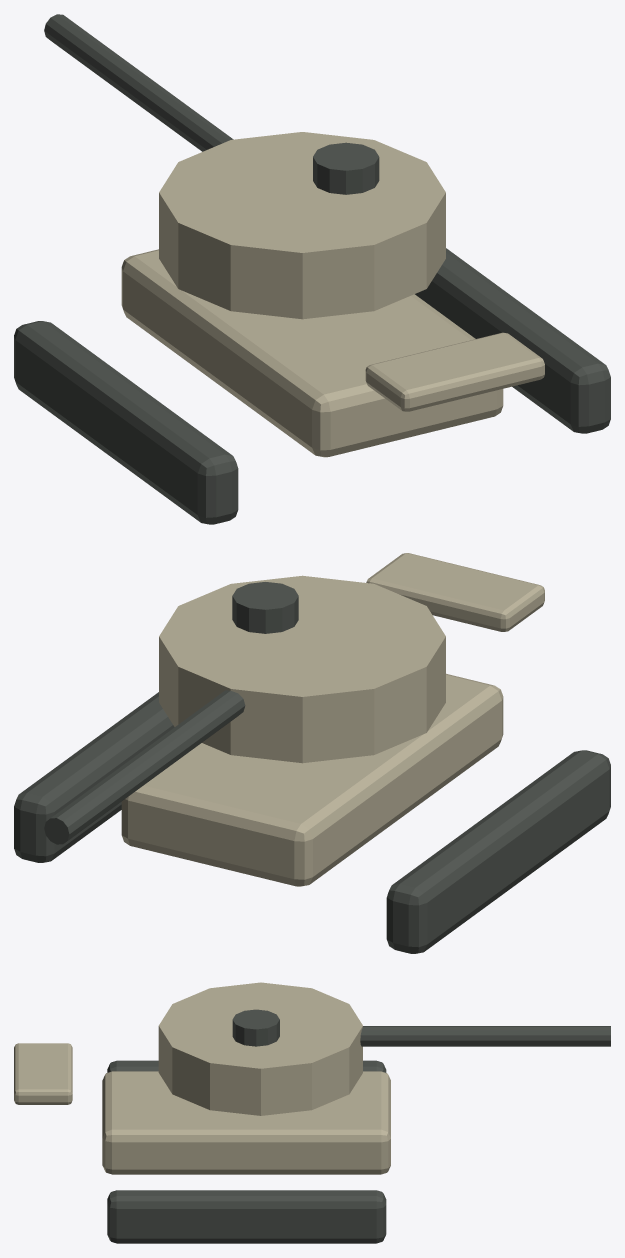
File: mideast_merkava4.glb
3 renders of one model, top to bottom at view 1: azimuth 30°, elevation 25°; view 2: azimuth 150°, elevation 25°; view 3: azimuth 270°, elevation 25°, orthographic. The views are drawn at different scales.
Parts seen in each view (by area): view 1: turret, hull, left_track, right_track, rear_deck, gun, cupola; view 2: turret, hull, left_track, right_track, rear_deck, gun, cupola; view 3: hull, turret, right_track, gun, rear_deck, cupola, left_track.
Part boxes in pixels (<box>): turret: <box>159,132,445,319</box>; hull: <box>121,249,503,457</box>; left_track: <box>14,321,238,524</box>; right_track: <box>415,248,610,433</box>; rear_deck: <box>365,332,544,411</box>; gun: <box>44,14,233,151</box>; cupola: <box>313,142,379,194</box>; turret: <box>159,575,445,763</box>; hull: <box>121,673,503,886</box>; left_track: <box>386,750,610,953</box>; right_track: <box>14,692,174,862</box>; rear_deck: <box>366,553,544,631</box>; gun: <box>44,690,245,844</box>; cupola: <box>232,582,298,633</box>; hull: <box>102,1071,390,1174</box>; turret: <box>158,982,362,1115</box>; right_track: <box>107,1190,386,1243</box>; gun: <box>360,1026,610,1046</box>; rear_deck: <box>14,1043,72,1104</box>; cupola: <box>232,1009,279,1046</box>; left_track: <box>107,1060,386,1072</box>.
Bounding box in the file's own units: 4.22 × 2.34 × 7.45.
